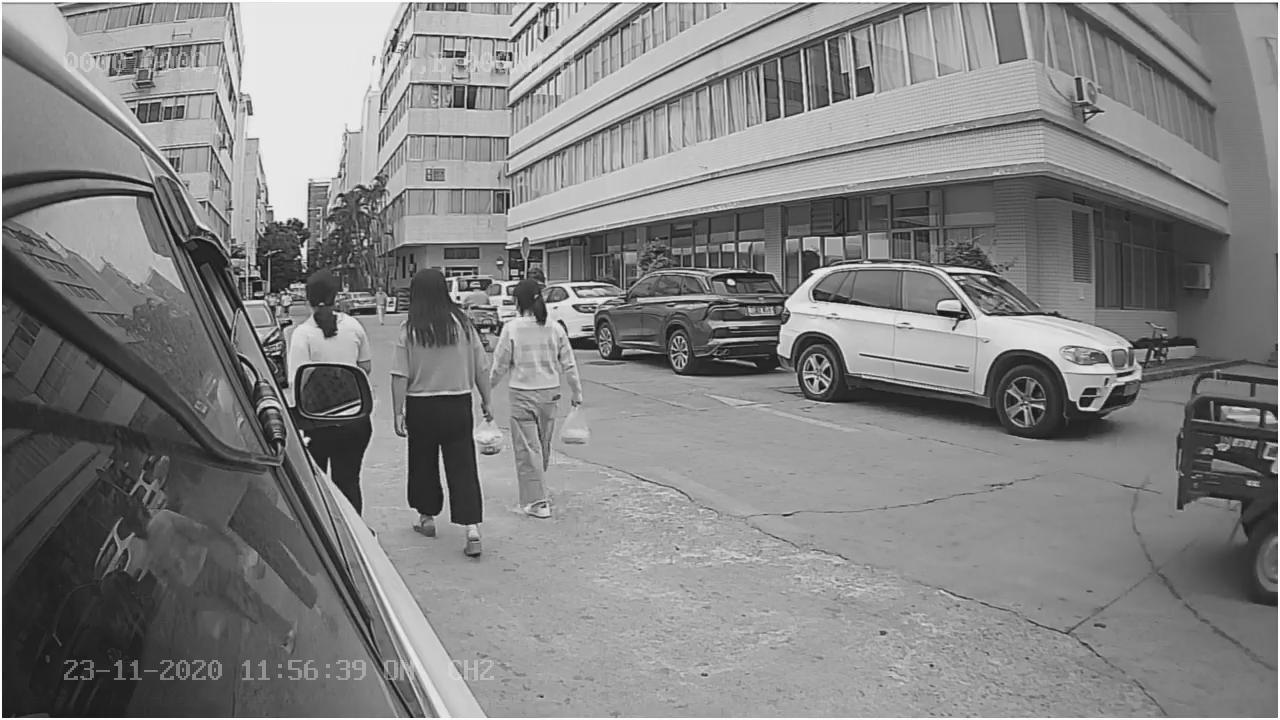person: (381, 260, 512, 562), (494, 283, 596, 528), (294, 267, 377, 365)
